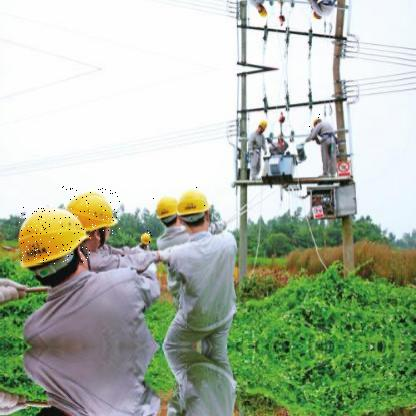safetyhelmet: (18, 208, 91, 266), (60, 186, 121, 236), (174, 185, 212, 221), (147, 195, 178, 223), (137, 230, 153, 244), (308, 115, 324, 128), (254, 118, 268, 132)
